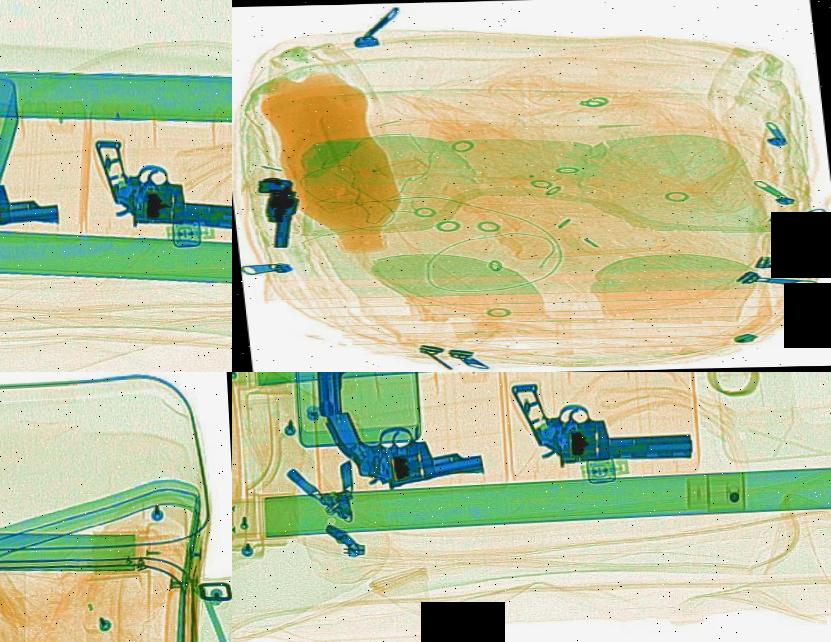Gun: (60, 127, 232, 240), (314, 390, 492, 498), (508, 374, 691, 465), (0, 135, 61, 233), (300, 372, 411, 416), (256, 175, 304, 247)
